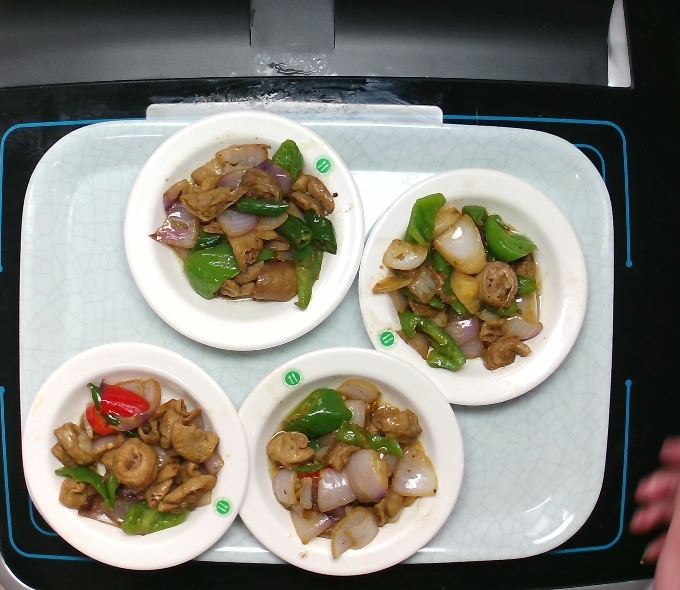wcq-QingJiaoChaoDaChang: (144, 135, 341, 315), (369, 188, 550, 378), (261, 374, 441, 561), (46, 374, 228, 539)
